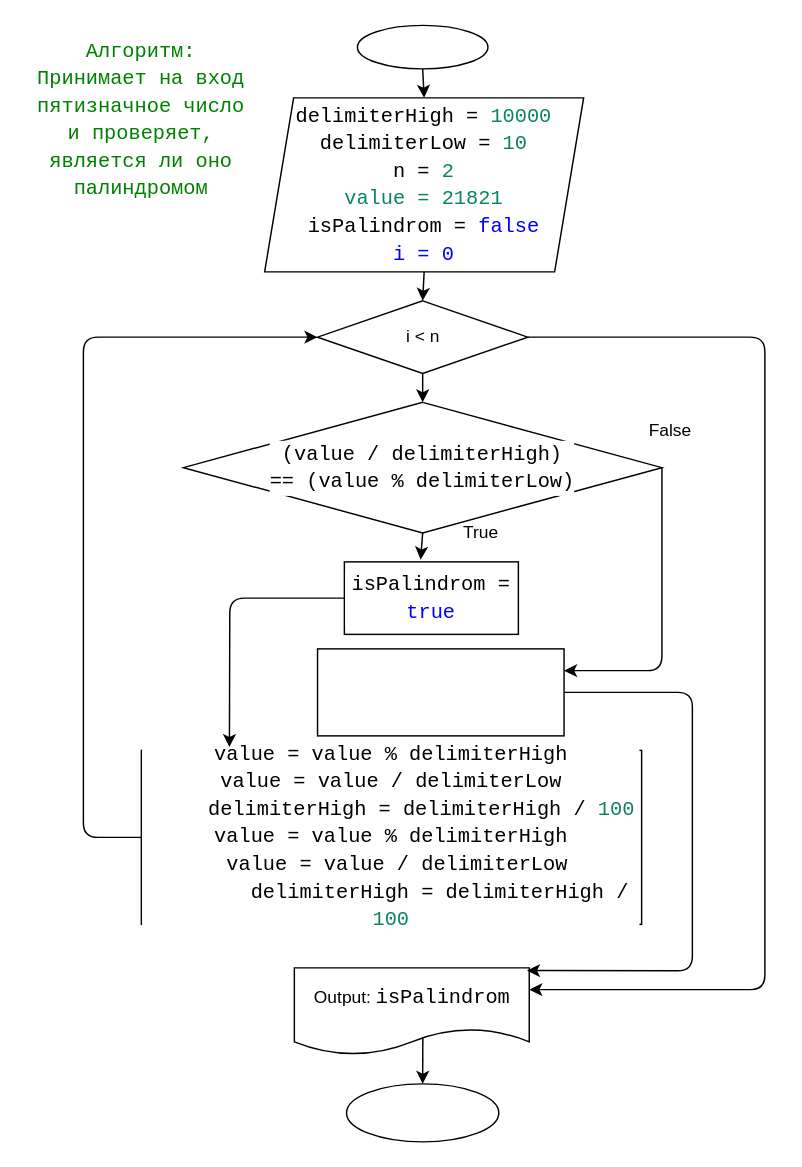
Some shapes in this 802 by 1167 pixel diagram are drawn without their labels. Here are the shapes that lost their labels. From the top down, the centre of each, then its label:
At point (422, 46): "Start".
At point (440, 691): "isPalindrom = false".
At point (422, 1112): "Stop".
